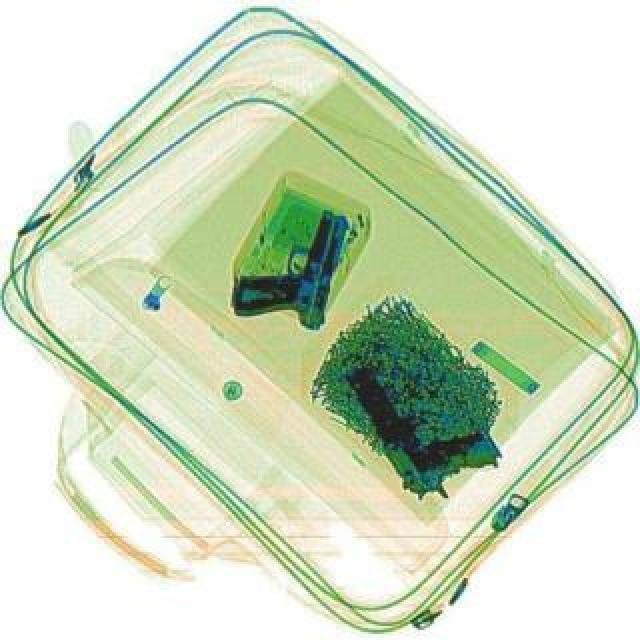gun: (340, 332, 512, 512), (230, 192, 358, 334)
